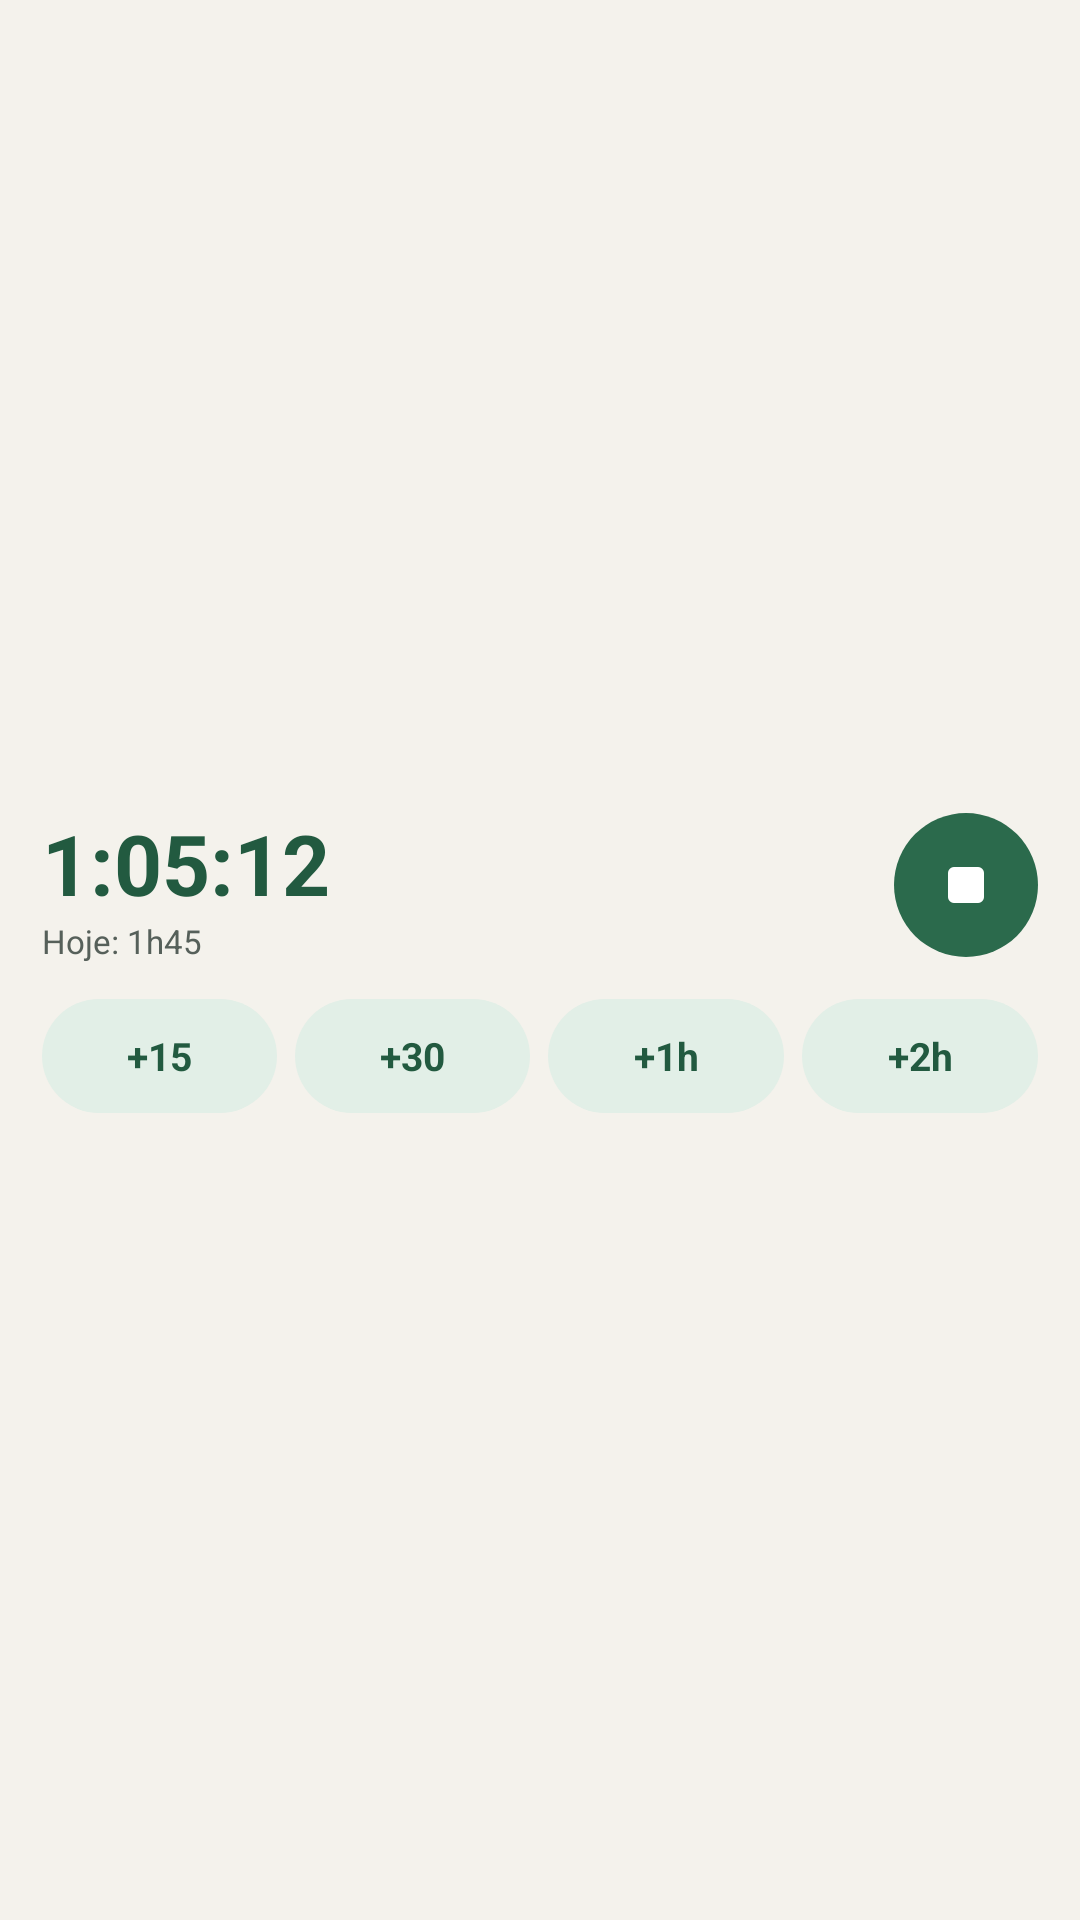

Where icons sit on this 1080*1920 app screen, as box=[x1, y1, x2, y2]:
stop: box=[894, 813, 1038, 957]
